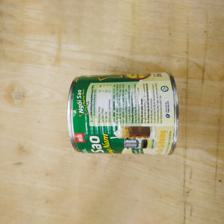NSPN_Lon: (63, 70, 178, 159)
